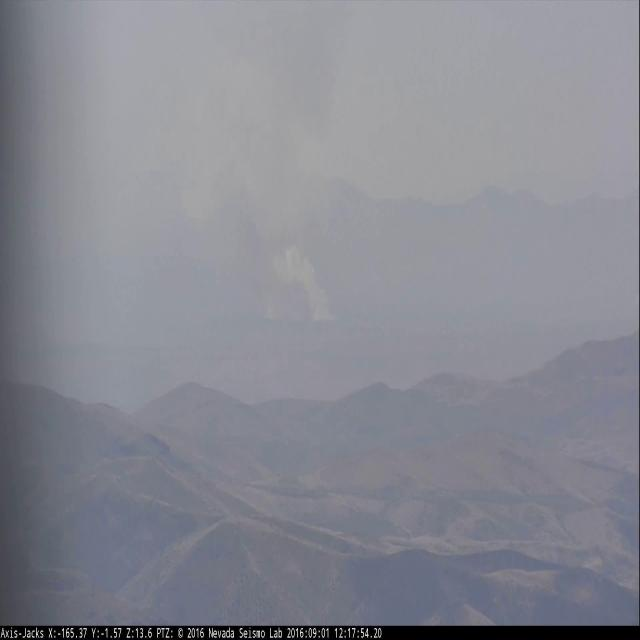smoke: (265, 244, 340, 327)
